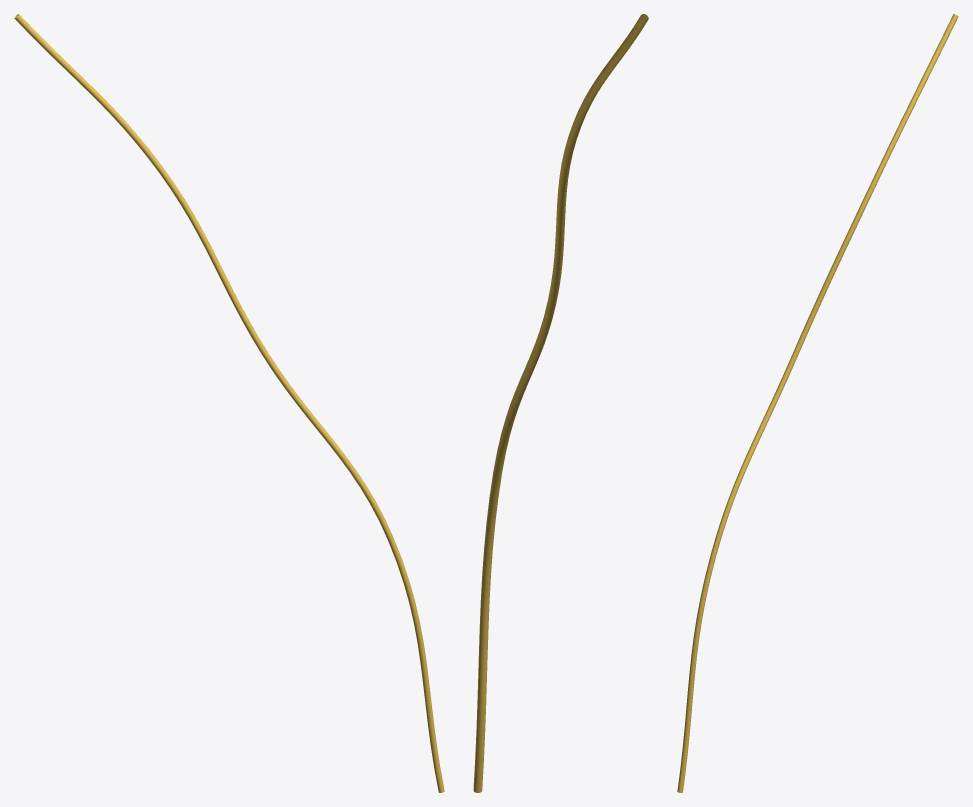
The model's file is Palmar_branch_ulnar_nerve_left.glb.
3 views of the same model, side by side, from view 1: azimuth 30°, elevation 25°; view 2: azimuth 150°, elevation 25°; view 3: azimuth 270°, elevation 25° (orthographic). The views are drawn at different scales.
Parts seen in each view (by area): view 1: Palmar_branch_of_ulnar_nerve.l_BezierCurve.492; view 2: Palmar_branch_of_ulnar_nerve.l_BezierCurve.492; view 3: Palmar_branch_of_ulnar_nerve.l_BezierCurve.492.
Part boxes in pixels (x1=…): Palmar_branch_of_ulnar_nerve.l_BezierCurve.492: x1=14, y1=14, x2=444, y2=792; Palmar_branch_of_ulnar_nerve.l_BezierCurve.492: x1=473, y1=14, x2=648, y2=792; Palmar_branch_of_ulnar_nerve.l_BezierCurve.492: x1=677, y1=14, x2=958, y2=792.
Bounding box in the file's own units: 0.0502 × 0.1267 × 0.049.
